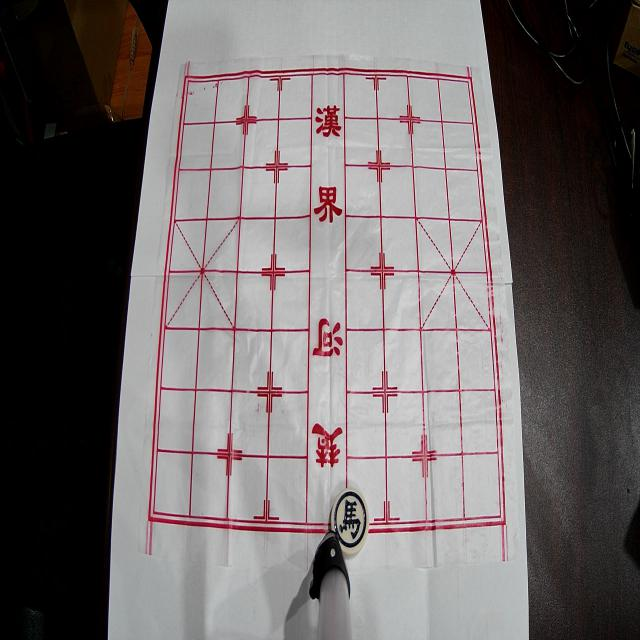black-horse: (330, 488, 370, 554)
